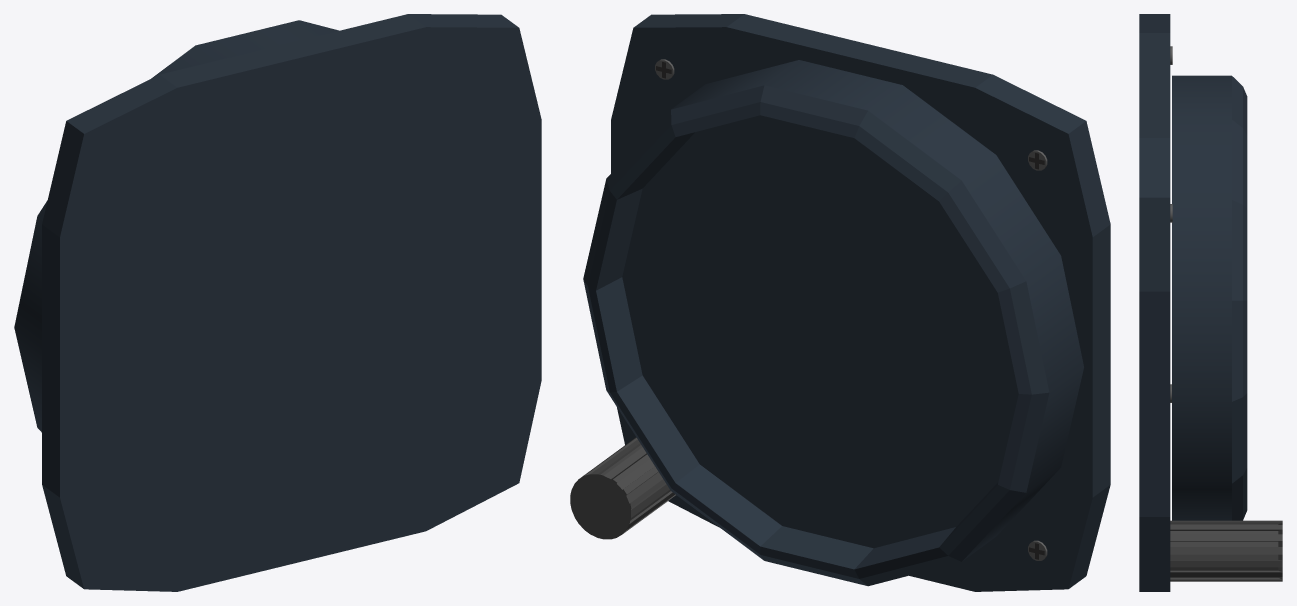
File: Base Altimetro.obj
3 views of the same model, side by side, from view 1: azimuth 30°, elevation 25°; view 2: azimuth 150°, elevation 25°; view 3: azimuth 270°, elevation 25° (orthographic). The views are drawn at different scales.
Visible parts, largest first — view 1: Base Tornillos, Base Altimetro (1); view 2: Base Altimetro (1), Base Tornillos, Perilla; view 3: Base Altimetro (1), Base Tornillos, Perilla.
Boxes of the visible parts, x1,y1,x2,y2 form: Base Tornillos: (42,14,541,591); Base Altimetro (1): (14,20,338,432); Base Altimetro (1): (583,60,1083,586); Base Tornillos: (611,14,1110,591); Perilla: (570,437,675,539); Base Altimetro (1): (1172,75,1247,520); Base Tornillos: (1139,14,1170,591); Perilla: (1170,520,1282,581).
Bounding box in the file's own units: 0.155 × 0.155 × 0.0461.
